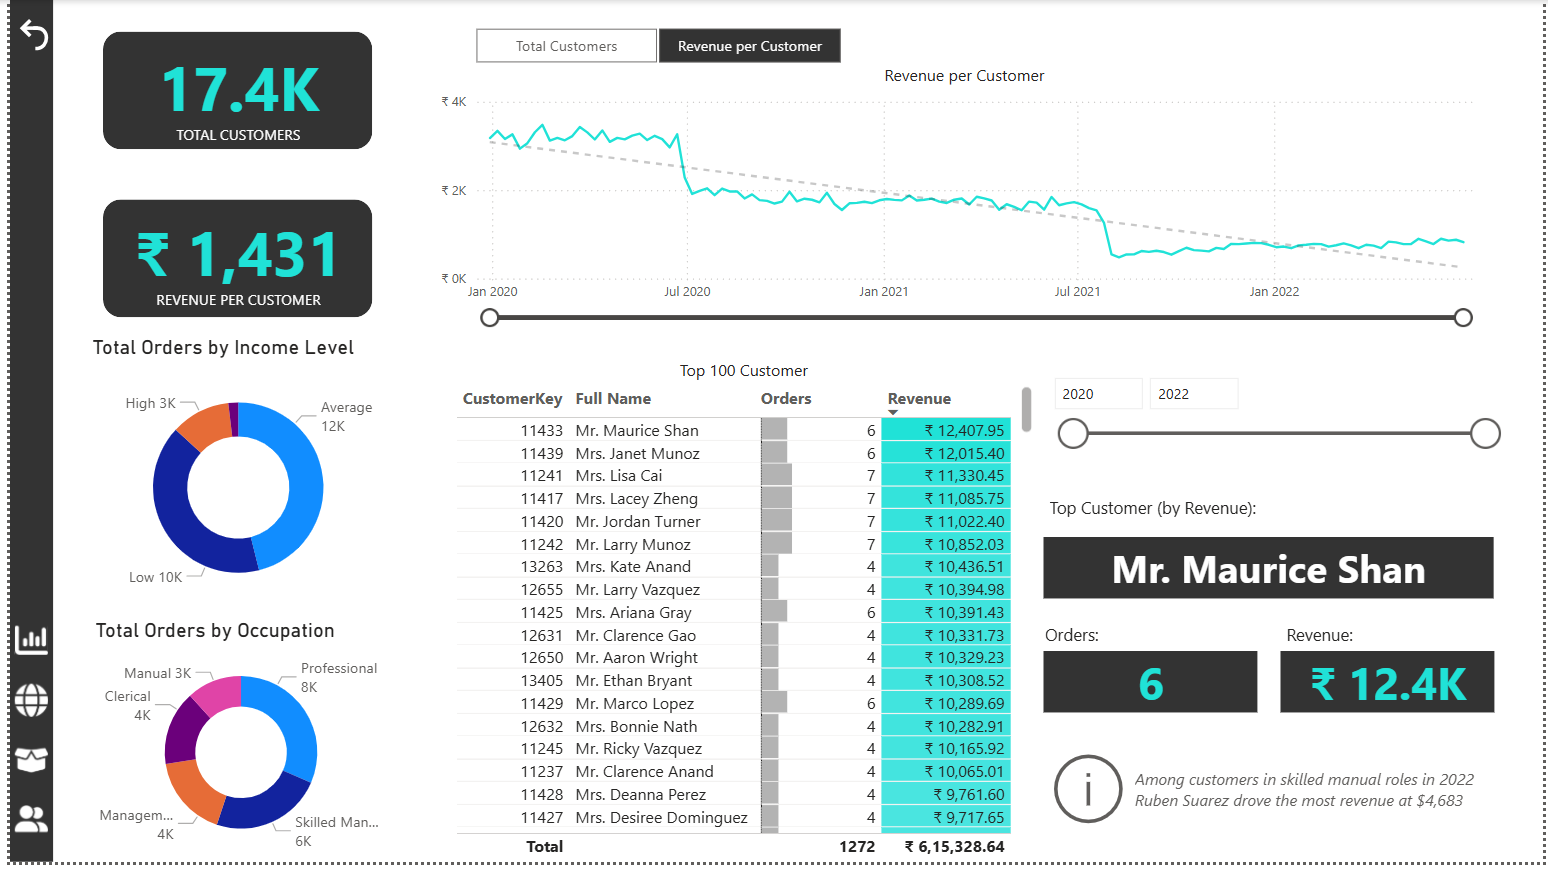

This screenshot's page, from the dashboard's own definition file:
{"tool":"powerbi","page":{"name":"Customer Detail","canvas":[1280,720],"ordinal":3},"visuals":[{"type":"shape","title":"Left NW navigation","box":[0,0,36.2,719.8],"z":0},{"type":"actionButton","box":[0,514.6,35.7,39.8],"z":0,"group":"g1"},{"type":"shape","box":[78.2,26.7,225,98.3],"z":1000},{"type":"actionButton","box":[0,564.5,35.7,39.8],"z":1000,"group":"g1"},{"type":"actionButton","box":[0,614.3,35.7,39.8],"z":2000,"group":"g1"},{"type":"shape","box":[78.2,166.1,225,98.3],"z":2000},{"type":"card","fields":{"Values":["Measure Table.Total Customers"]},"box":[64,0,253.3,158.3],"z":3000},{"type":"actionButton","box":[0,664.2,35.7,39.8],"z":3000,"group":"g1"},{"type":"card","fields":{"Values":["Measure Table.Average Revenue per Customer"]},"box":[64,137.8,253.3,158.3],"z":4000},{"type":"lineChart","fields":{"Y":["Measure Table.Total Customers"],"Category":["Calendar Lookup.Date Hierarchy.Start of Year","Calendar Lookup.Date Hierarchy.Start of Month","Calendar Lookup.Date Hierarchy.Start of Week","Calendar Lookup.Date Hierarchy.Date"]},"box":[354.1,52.1,885.2,223.7],"z":5000},{"type":"donutChart","fields":{"Category":["Customer Lookup.Income Level"],"Y":["Measure Table.Total Orders"]},"box":[64.3,280,252.9,235.7],"z":6000},{"type":"donutChart","fields":{"Y":["Measure Table.Total Orders"],"Category":["Customer Lookup.Occupation"]},"box":[65.9,516,252.5,204.5],"z":7000},{"type":"tableEx","title":"Top 100 Customer","fields":{"Values":["Customer Lookup.CustomerKey","Customer Lookup.Full Name","Measure Table.Total Orders","Measure Table.Total Revenue"]},"box":[367.6,299.3,491.6,420.3],"z":8000},{"type":"card","fields":{"Values":["Customer Lookup.Full Name (Customer Detail)"]},"box":[863.9,448.7,375.7,51.4],"z":9000},{"type":"card","fields":{"Values":["Measure Table.Total Orders (Customer Detail)"]},"box":[863.9,543.5,178.6,51.4],"z":10000},{"type":"card","fields":{"Values":["Measure Table.Total Revenue (Customer Detail)"]},"box":[1061,543.5,178.6,51.4],"z":11000},{"type":"textbox","box":[863.9,408.7,225.7,28.6],"z":12000},{"type":"textbox","box":[1061,514.4,215.7,28.6],"z":13000},{"type":"textbox","box":[859.6,514.4,225.7,28.6],"z":14000},{"type":"slicer","fields":{"Values":["Calendar Lookup.Year"]},"box":[859.2,305.5,393.9,93.1],"z":15000},{"type":"actionButton","box":[864.7,622.2,374.9,72.5],"z":16000},{"type":"actionButton","box":[2.7,6.9,35.7,45.3],"z":17000},{"type":"group","id":"g1","title":"Navigation Buttons","box":[0,514.6,35.7,189.4],"z":18000},{"type":"slicer","fields":{"Values":["Customer Metric Selection.Customer Metric Selection"]},"box":[367.8,20.6,344.5,37.1],"z":18501}]}

Visuals, with their boxes on the page's 1280x720 design canvas (x1, y1, x2, y2). These are canvas units, not pixel positions in the 1548x870 screenshot, which may show the page scaled, cropped or inside an application window:
"Left NW navigation" shape: bbox=[0, 0, 36, 720]
actionButton: bbox=[0, 515, 36, 554]
shape: bbox=[78, 27, 303, 125]
actionButton: bbox=[0, 564, 36, 604]
actionButton: bbox=[0, 614, 36, 654]
shape: bbox=[78, 166, 303, 264]
card - Measure Table.Total Customers: bbox=[64, 0, 317, 158]
actionButton: bbox=[0, 664, 36, 704]
card - Measure Table.Average Revenue per Customer: bbox=[64, 138, 317, 296]
lineChart - Measure Table.Total Customers x Calendar Lookup.Date Hierarchy.Start of Year: bbox=[354, 52, 1239, 276]
donutChart - Customer Lookup.Income Level x Measure Table.Total Orders: bbox=[64, 280, 317, 516]
donutChart - Measure Table.Total Orders x Customer Lookup.Occupation: bbox=[66, 516, 318, 720]
"Top 100 Customer" tableEx: bbox=[368, 299, 859, 720]
card - Customer Lookup.Full Name (Customer Detail): bbox=[864, 449, 1240, 500]
card - Measure Table.Total Orders (Customer Detail): bbox=[864, 544, 1042, 595]
card - Measure Table.Total Revenue (Customer Detail): bbox=[1061, 544, 1240, 595]
textbox: bbox=[864, 409, 1090, 437]
textbox: bbox=[1061, 514, 1277, 543]
textbox: bbox=[860, 514, 1085, 543]
slicer - Calendar Lookup.Year: bbox=[859, 306, 1253, 399]
actionButton: bbox=[865, 622, 1240, 695]
actionButton: bbox=[3, 7, 38, 52]
"Navigation Buttons" group: bbox=[0, 515, 36, 704]
slicer - Customer Metric Selection.Customer Metric Selection: bbox=[368, 21, 712, 58]
